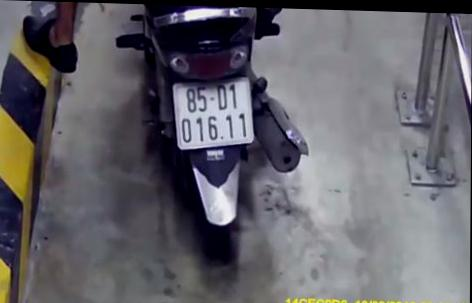License_Plate: (164, 73, 256, 158)
